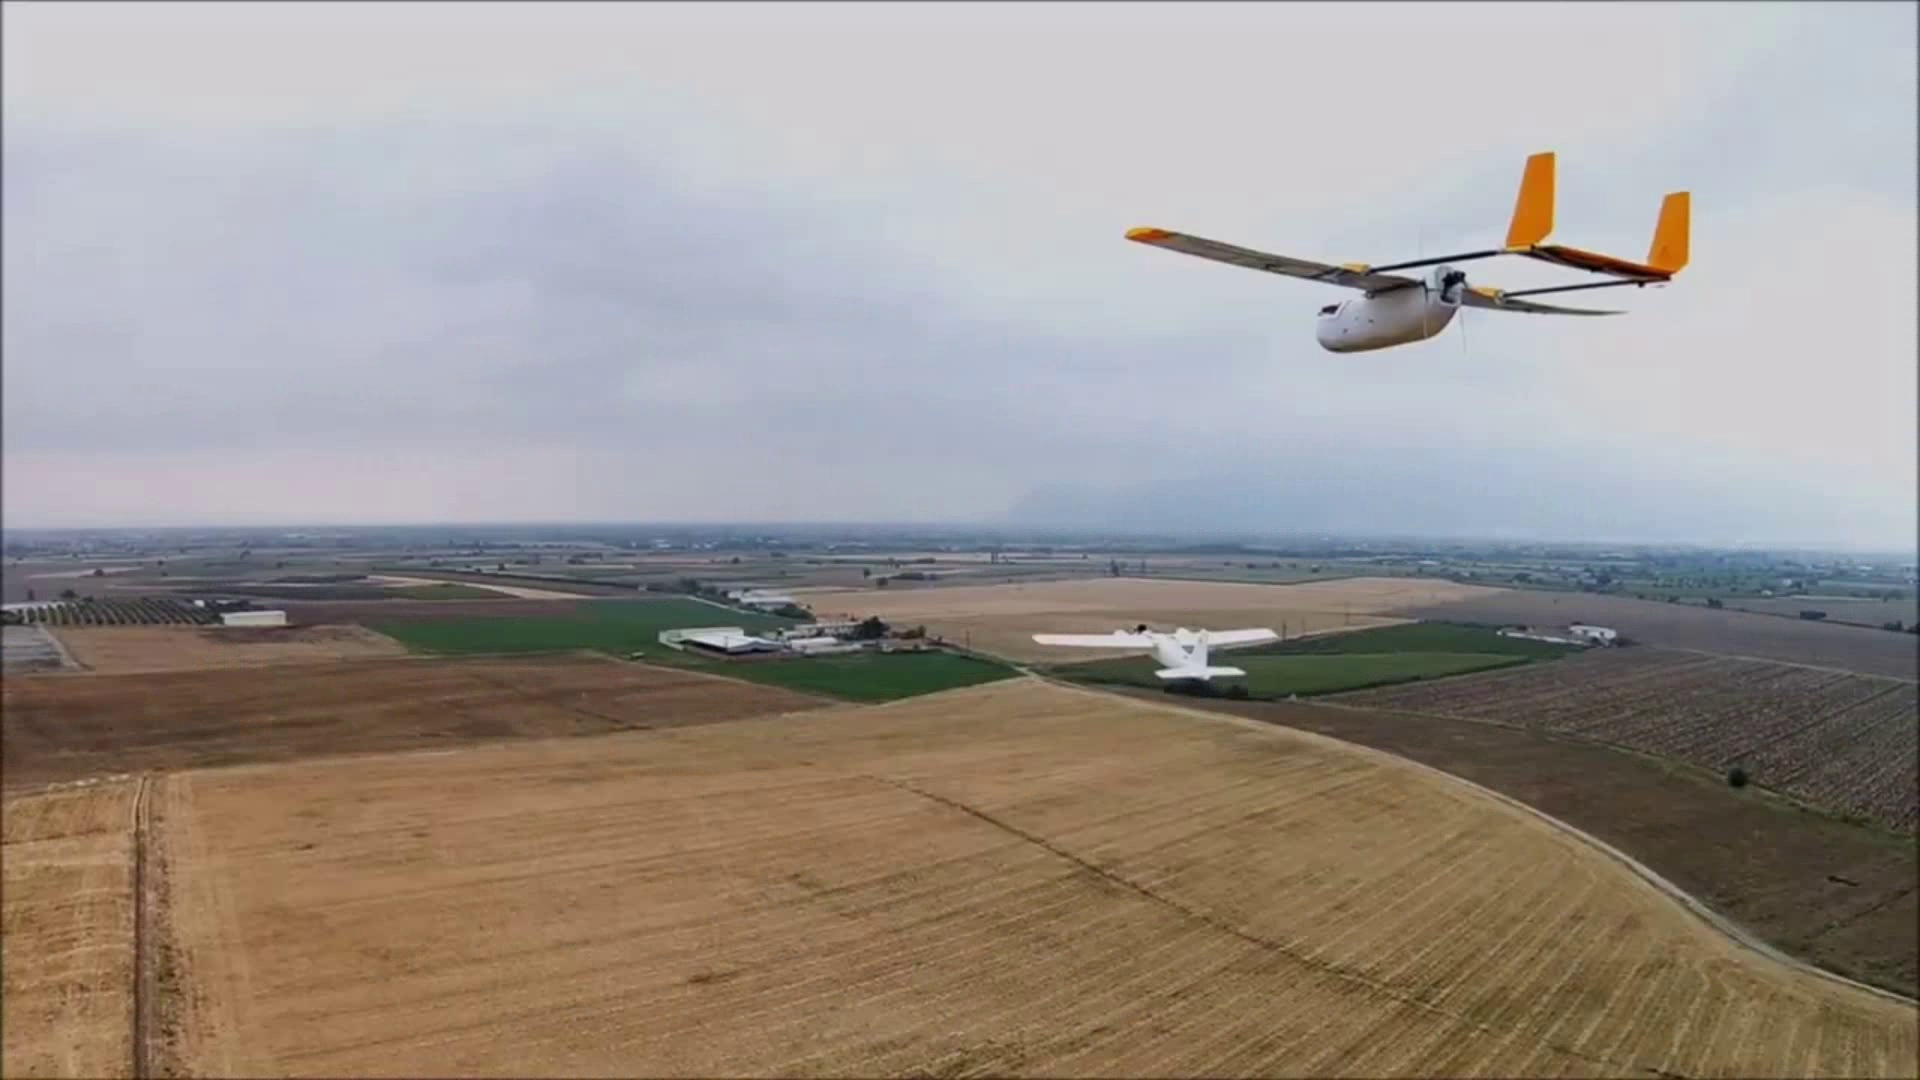airplane: (1120, 148, 1693, 356)
